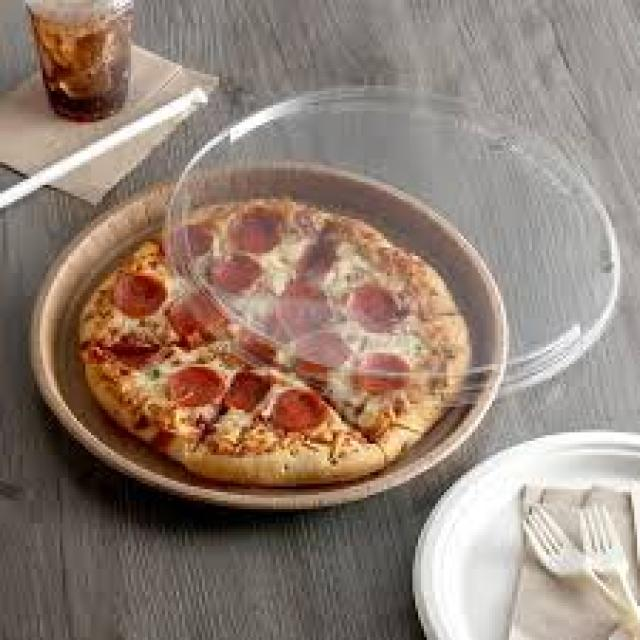disposable: (16, 132, 536, 538)
